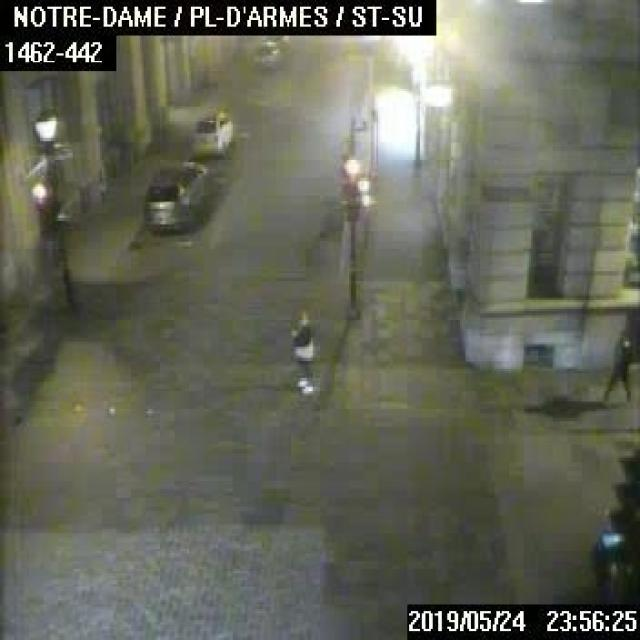pedestrian: (596, 322, 638, 409), (284, 304, 316, 402)
vehicle: (140, 158, 211, 233), (190, 108, 237, 157), (250, 38, 278, 69)
